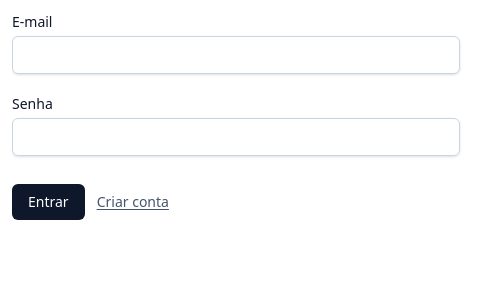
Test: LoginForm — o erro genérico de credencial › aparece num alerta dentro do formulário, com a mensagem que a pessoa lê
Type "maria@empresa.com" into the field labelled "E-mail".
click(236, 55); type("maria@empresa.com")  # box [12,36,460,74]
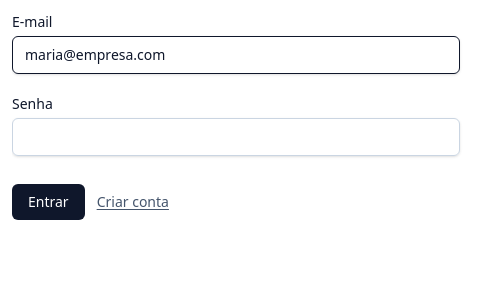
Type "errada" into the password field labelled "Senha".
click(236, 137); type("errada")  # box [12,118,460,156]
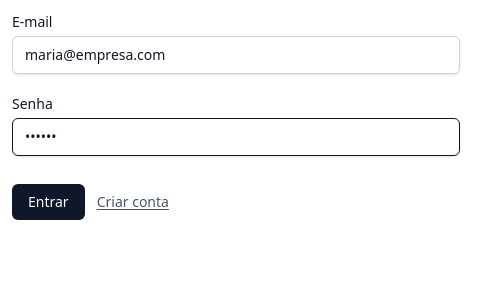
Click the button "Entrar".
click(48, 202)  # box [12,184,85,220]
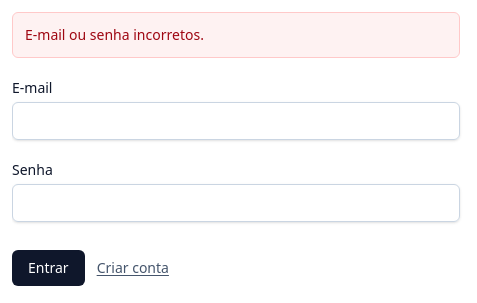
Check: the message "E-mail ou senha incorretos." is shown, box [12,12,460,58]
Check: the message reads "E-mail ou senha incorretos.", box [25,25,204,44]
